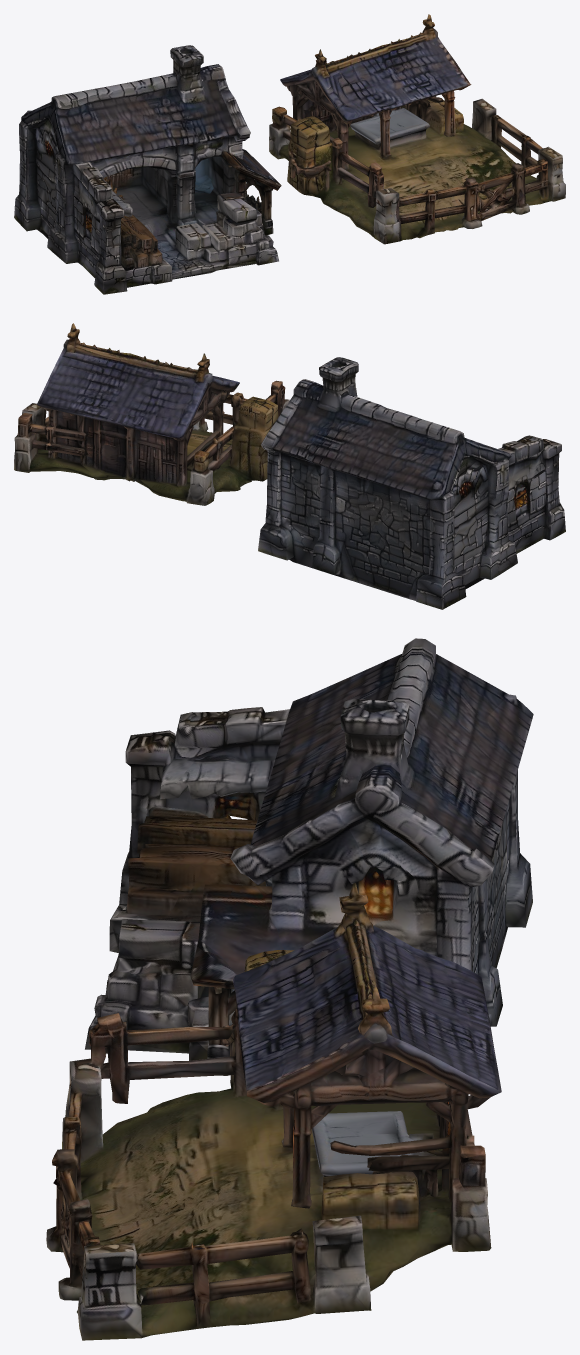
Rendered from farmstead.glb.
3 views of the same model, one above another, from view 1: azimuth 30°, elevation 25°; view 2: azimuth 150°, elevation 25°; view 3: azimuth 270°, elevation 25° (orthographic). The views are drawn at different scales.
Visible parts, largest first — view 1: tripo_node_d6a47007-00e0-468a-8086-0317b500f43a, tripo_node_a6e2cb6d-843f-4073-af24-3c14b2e3cc81; view 2: tripo_node_d6a47007-00e0-468a-8086-0317b500f43a, tripo_node_a6e2cb6d-843f-4073-af24-3c14b2e3cc81; view 3: tripo_node_a6e2cb6d-843f-4073-af24-3c14b2e3cc81, tripo_node_d6a47007-00e0-468a-8086-0317b500f43a.
Part boxes in pixels (x1,y1,x2,y2): tripo_node_d6a47007-00e0-468a-8086-0317b500f43a: [14, 45, 281, 294]; tripo_node_a6e2cb6d-843f-4073-af24-3c14b2e3cc81: [269, 14, 565, 244]; tripo_node_d6a47007-00e0-468a-8086-0317b500f43a: [258, 357, 565, 609]; tripo_node_a6e2cb6d-843f-4073-af24-3c14b2e3cc81: [14, 323, 289, 505]; tripo_node_a6e2cb6d-843f-4073-af24-3c14b2e3cc81: [46, 883, 501, 1340]; tripo_node_d6a47007-00e0-468a-8086-0317b500f43a: [85, 638, 533, 1075].
Size of the model in its own units: 8.11 by 2.89 by 3.8.
Materials: 2 (2 with a texture image).
